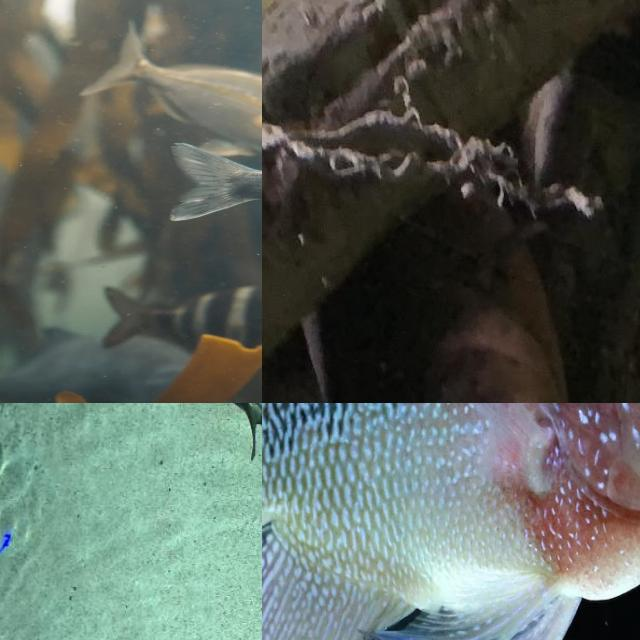fish: (0, 0, 262, 403), (286, 151, 582, 403), (301, 403, 640, 597)
